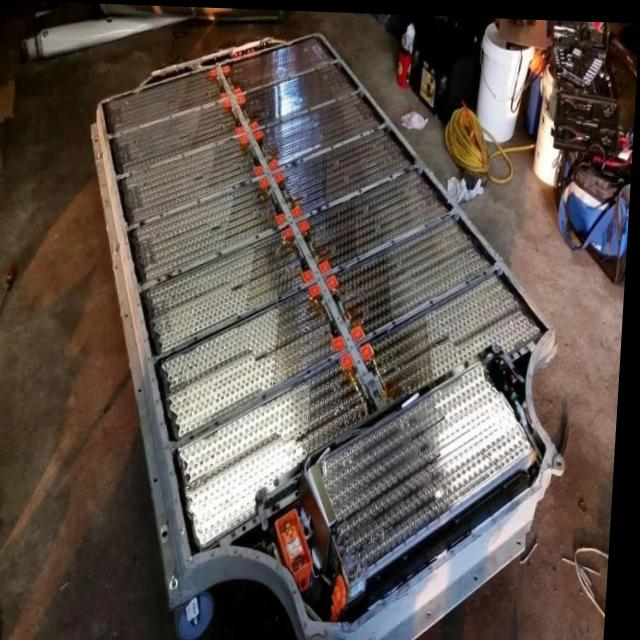Battery Module: (334, 366, 531, 557), (188, 364, 366, 538), (173, 298, 325, 429), (381, 279, 519, 391), (157, 245, 300, 349), (348, 223, 483, 319), (145, 185, 267, 277), (319, 176, 440, 255), (134, 138, 248, 215), (288, 134, 399, 210), (123, 104, 231, 170), (269, 93, 371, 156), (110, 73, 217, 130), (249, 64, 346, 121), (236, 36, 327, 85)
